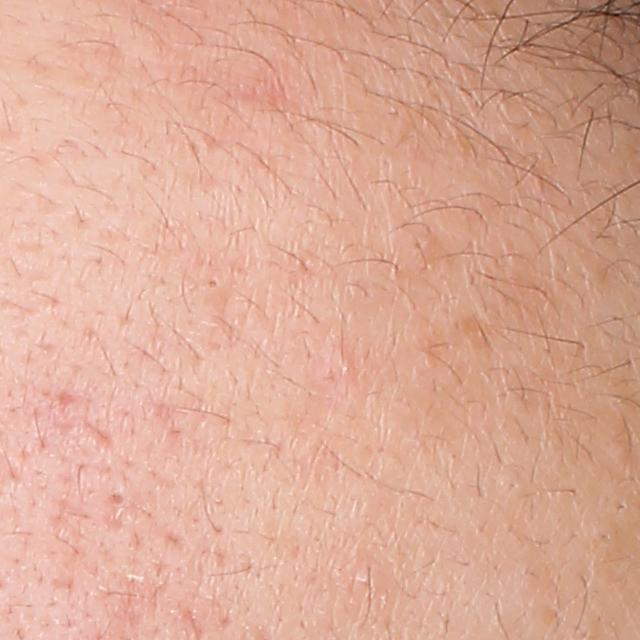comedo: (106, 487, 129, 512), (204, 274, 221, 290), (337, 361, 354, 376)
